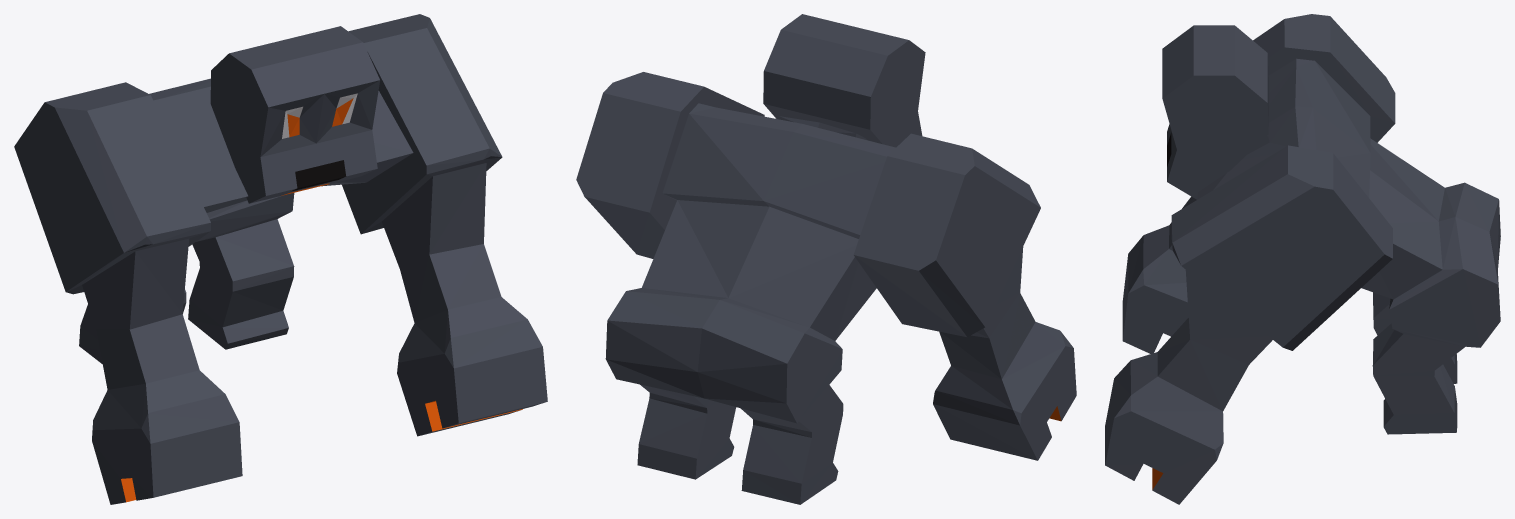
The model's file is kong_000028.obj.
3 renders of one model, left to right at view 1: azimuth 30°, elevation 25°; view 2: azimuth 150°, elevation 25°; view 3: azimuth 270°, elevation 25°, orthographic. The views are drawn at different scales.
Visible parts, largest first — view 1: Cube; view 2: Cube; view 3: Cube.
Boxes of the visible parts, x1=… form: Cube: x1=14, y1=14, x2=547, y2=504; Cube: x1=576, y1=14, x2=1076, y2=504; Cube: x1=1105, y1=14, x2=1500, y2=504.
Size of the model in its own units: 5.84 by 5.83 by 5.62.
1 material, 1 textured.
